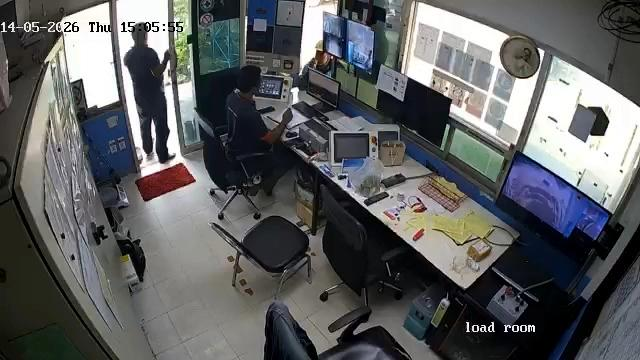Head: (233, 64, 264, 95), (129, 23, 151, 43)
People: (221, 63, 300, 196), (121, 20, 177, 166)
Phone: (257, 106, 277, 115)
